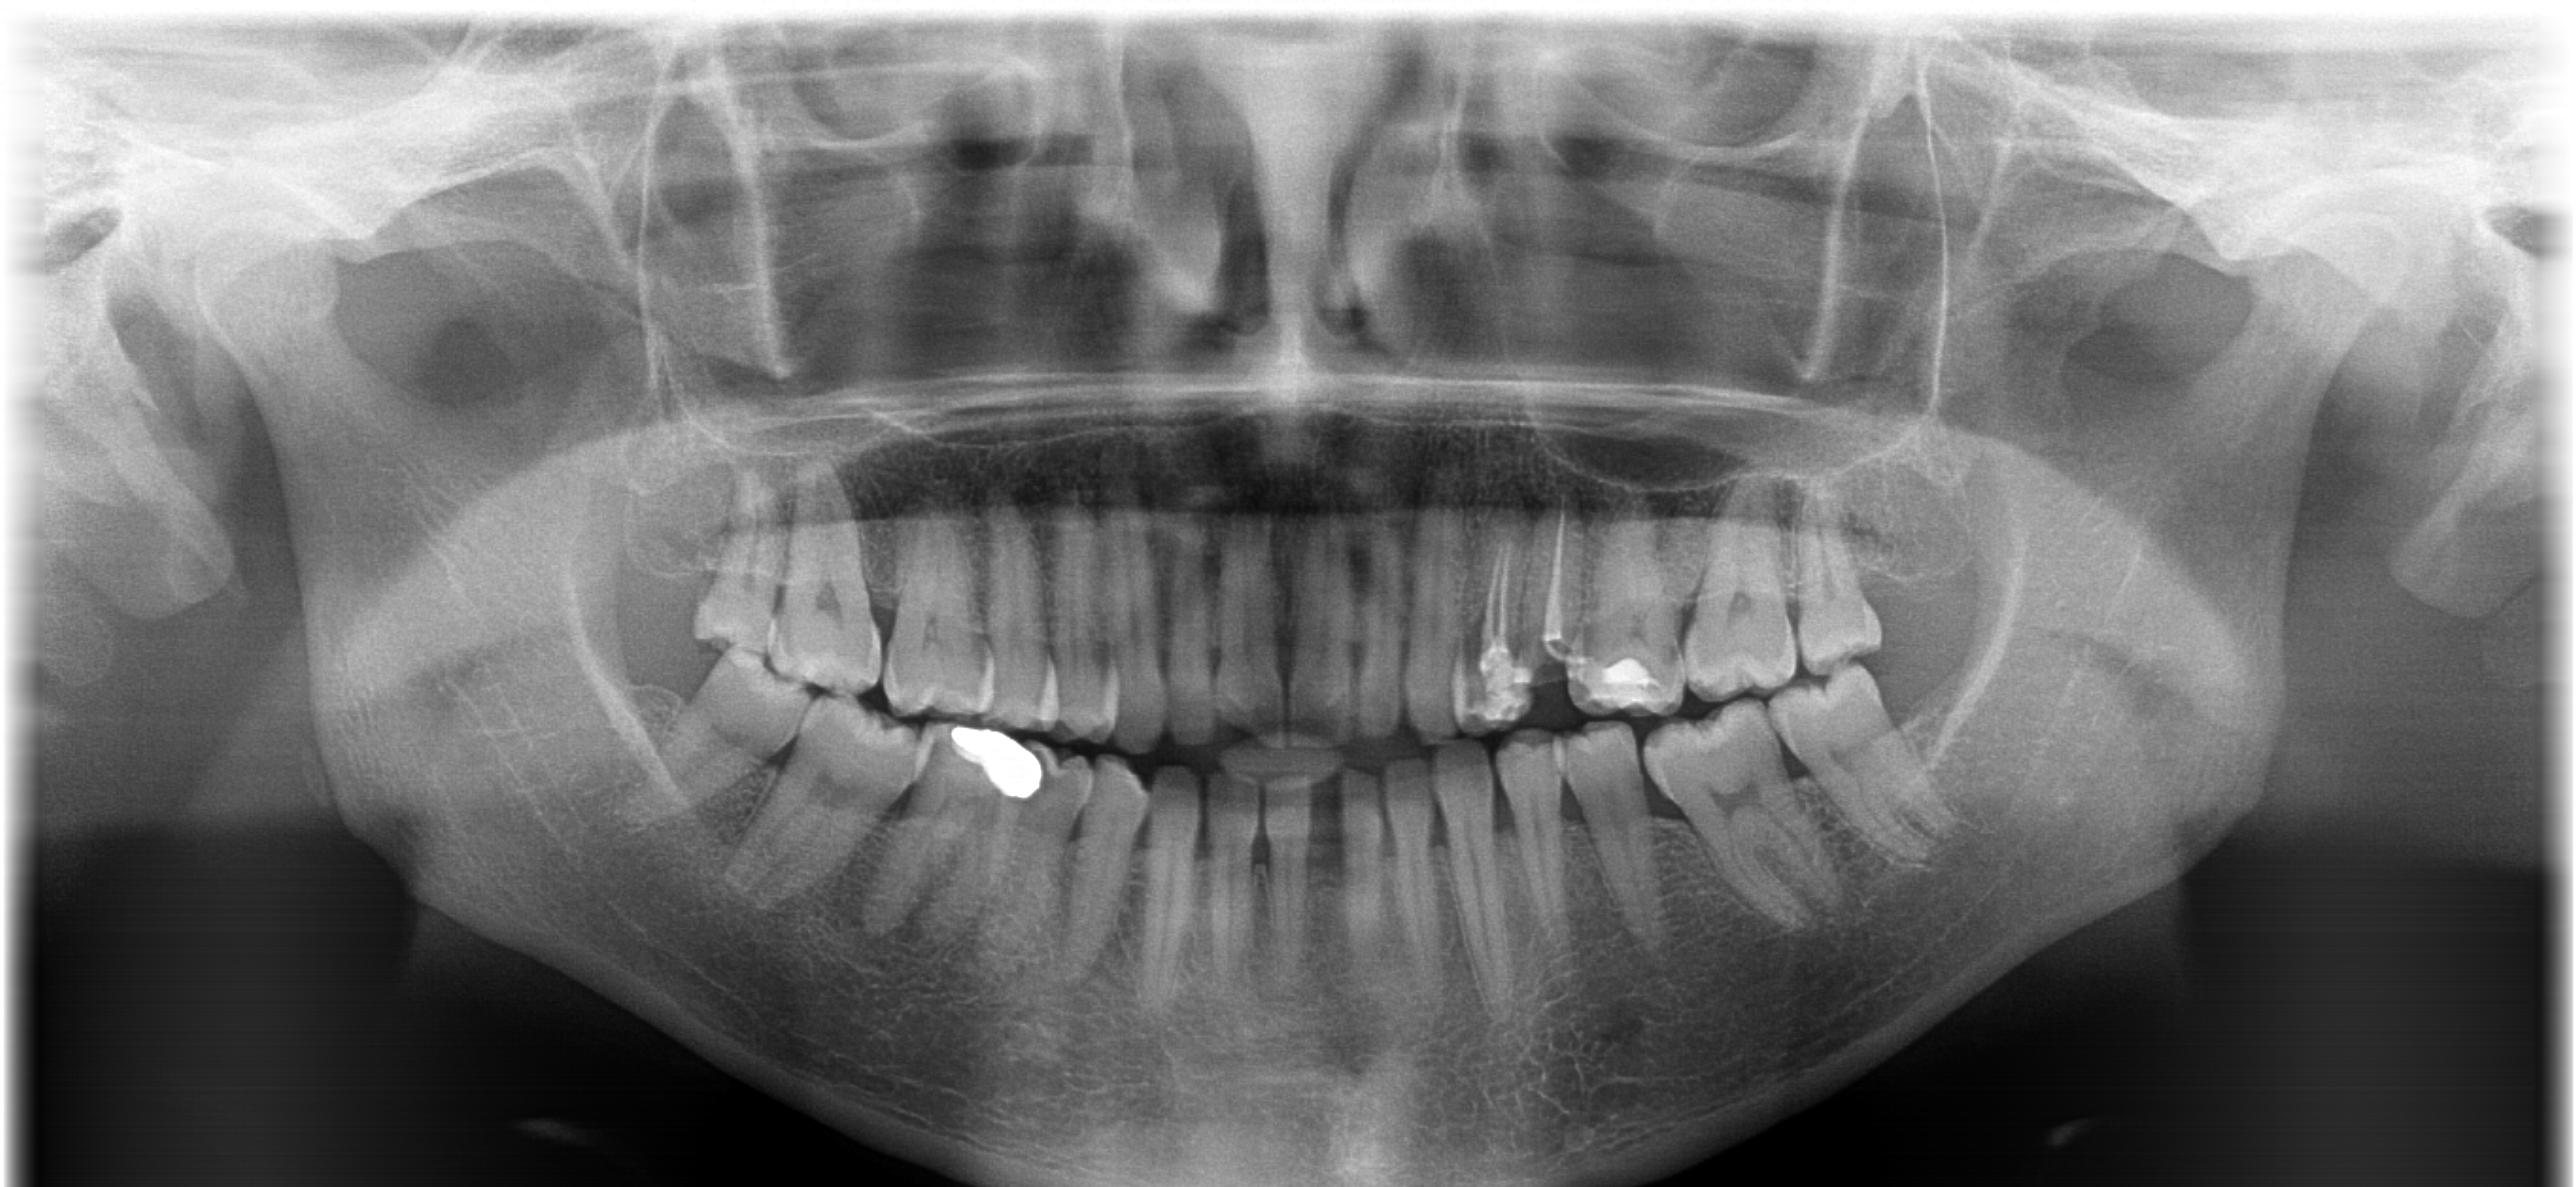cordal: (606, 642, 826, 850), (1769, 461, 1912, 681), (669, 456, 797, 657)
diastema: (1295, 758, 1360, 967)
enanismo_reticular: (1510, 483, 1598, 688)
tratamiento_conducto: (1447, 494, 1549, 742)
